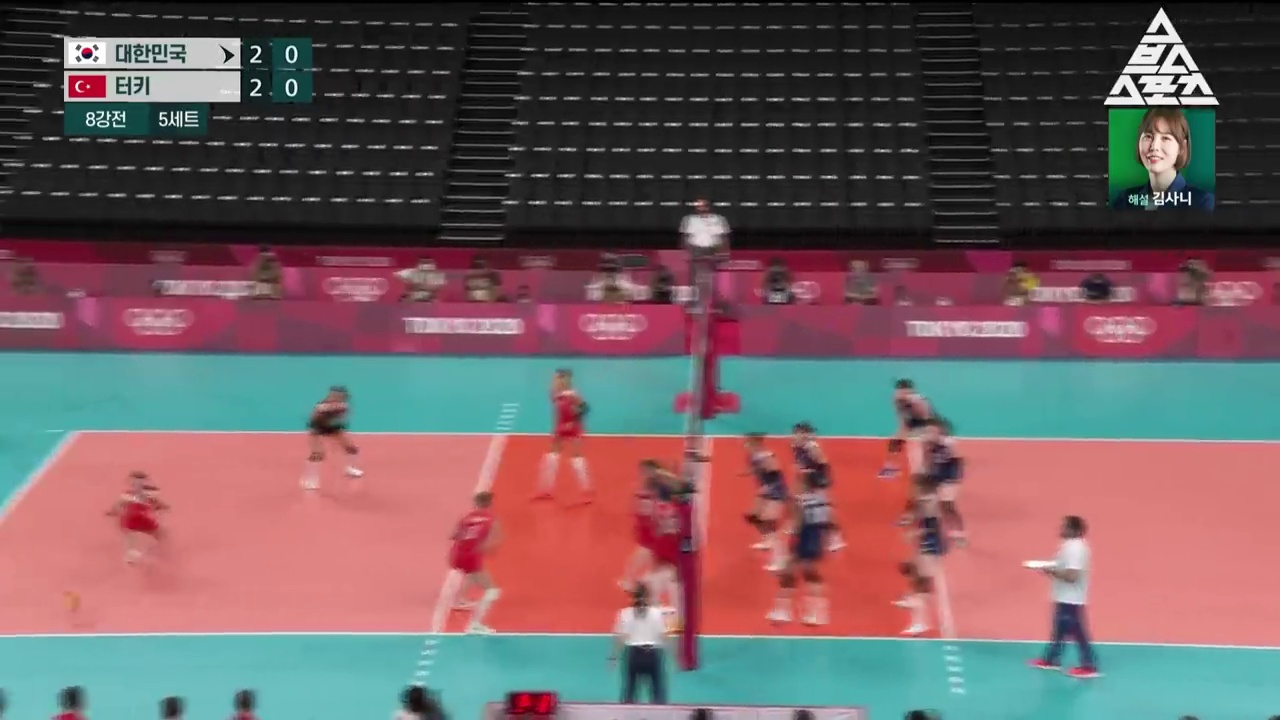ball: (62, 591, 81, 612)
player: (766, 473, 832, 624), (896, 420, 969, 548), (891, 473, 944, 635), (783, 421, 846, 551), (737, 432, 787, 570), (878, 379, 947, 477)
player 1: (531, 369, 595, 508), (450, 492, 504, 635), (621, 460, 672, 594), (302, 385, 364, 489), (104, 470, 171, 564), (648, 482, 687, 634)
referee: (608, 584, 673, 705), (681, 199, 731, 315)
